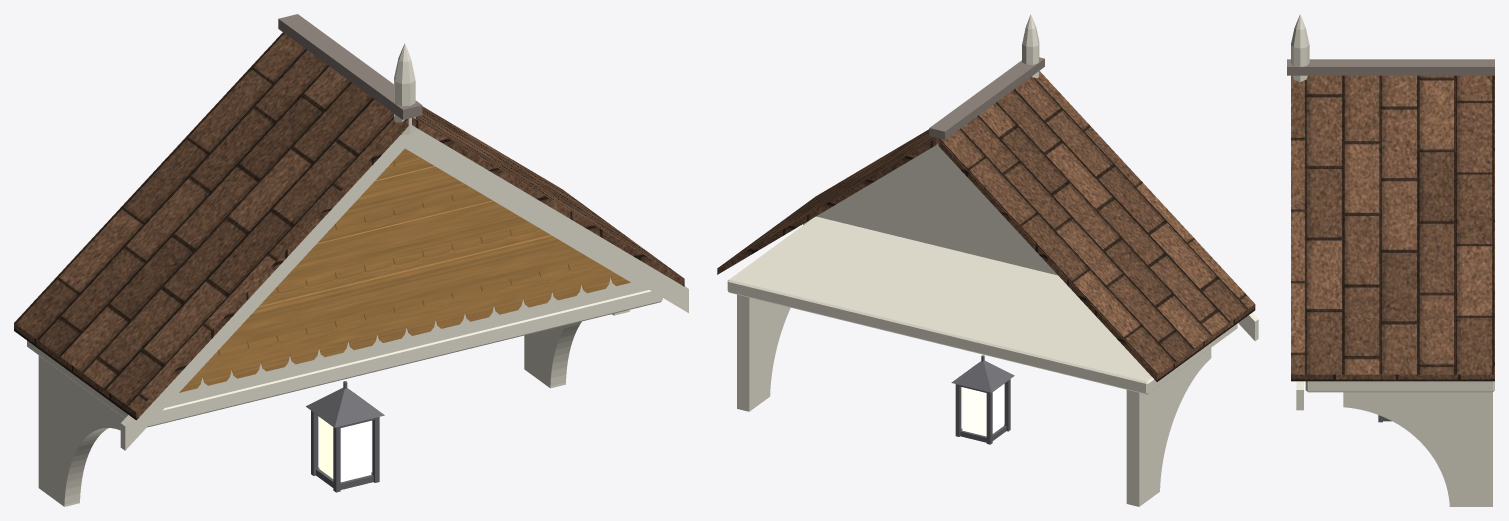
File: hood.glb
3 views of the same model, side by side, from view 1: azimuth 30°, elevation 25°; view 2: azimuth 150°, elevation 25°; view 3: azimuth 270°, elevation 25° (orthographic). The views are drawn at different scales.
Parts seen in each view (by area): view 1: hood_shingles, hood_scale, hood_trim, hood_iron, hood_ridge, hood_lamp_glass; view 2: hood_trim, hood_shingles, hood_iron, hood_ridge, hood_lamp_glass; view 3: hood_shingles, hood_trim, hood_ridge.
Part boxes in pixels (box(x1,y1,x2,y2)): hood_shingles: box(14, 32, 684, 420); hood_scale: box(179, 148, 630, 392); hood_trim: box(27, 43, 688, 506); hood_iron: box(306, 381, 384, 492); hood_ridge: box(278, 14, 422, 119); hood_lamp_glass: box(319, 417, 371, 482); hood_trim: box(727, 14, 1258, 506); hood_shingles: box(717, 71, 1255, 381); hood_iron: box(951, 355, 1014, 444); hood_ridge: box(929, 57, 1044, 139); hood_lamp_glass: box(962, 384, 1003, 436); hood_shingles: box(1291, 75, 1494, 381); hood_trim: box(1291, 14, 1494, 506); hood_ridge: box(1287, 59, 1494, 75).
Bounding box in the file's own units: 2.9 × 2.4 × 1.11.
Materials: 6 (2 with a texture image).
